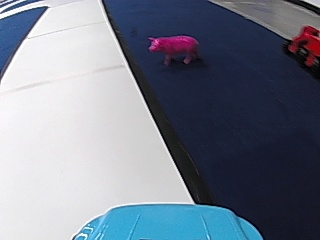pig: (145, 31, 199, 66)
